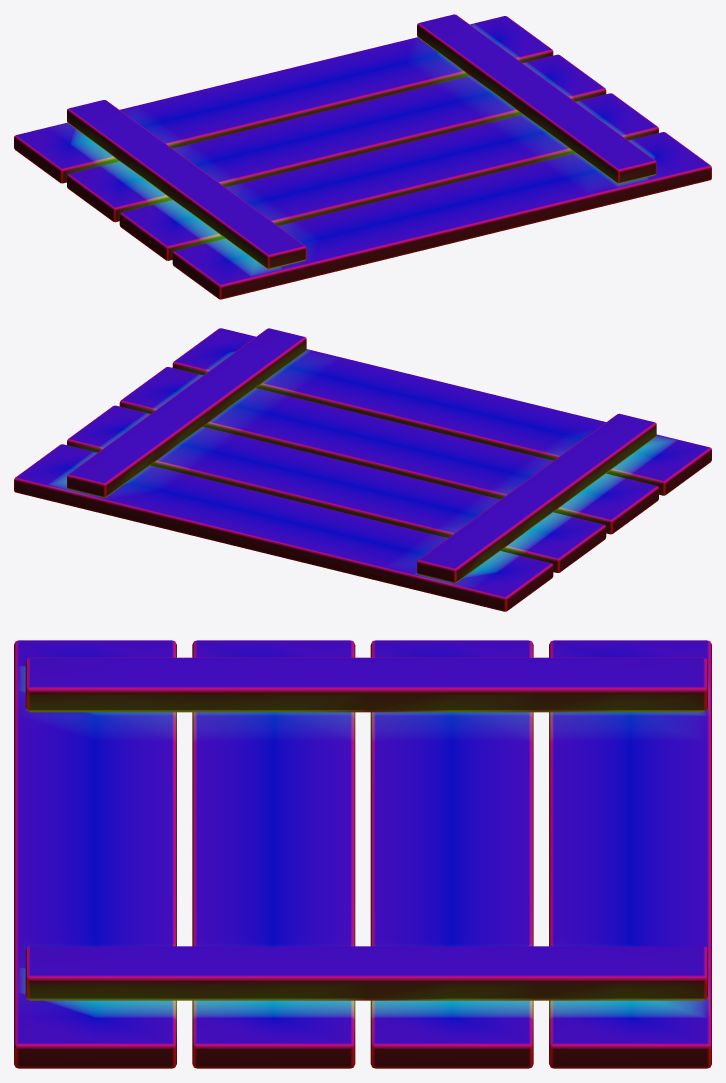
File: prop_crate_lid.fbx
3 views of the same model, one above another, from view 1: azimuth 30°, elevation 25°; view 2: azimuth 150°, elevation 25°; view 3: azimuth 270°, elevation 25° (orthographic). The views are drawn at different scales.
Visible parts, largest first — view 1: prop_crate_lid; view 2: prop_crate_lid; view 3: prop_crate_lid.
Boxes of the visible parts, x1,y1,x2,y2 form: prop_crate_lid: (14,14,711,299); prop_crate_lid: (14,328,711,611); prop_crate_lid: (14,640,711,1068).
Bounding box in the file's own units: 0.62 × 0.036 × 0.45.
